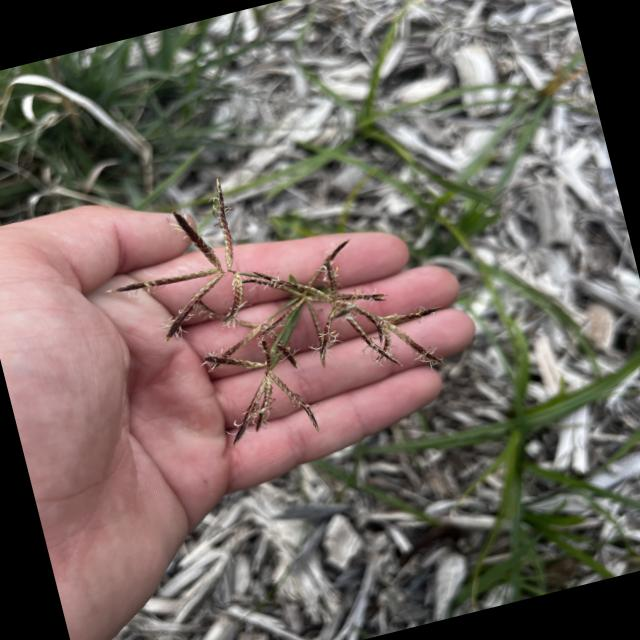cyperus: (87, 136, 460, 468)
